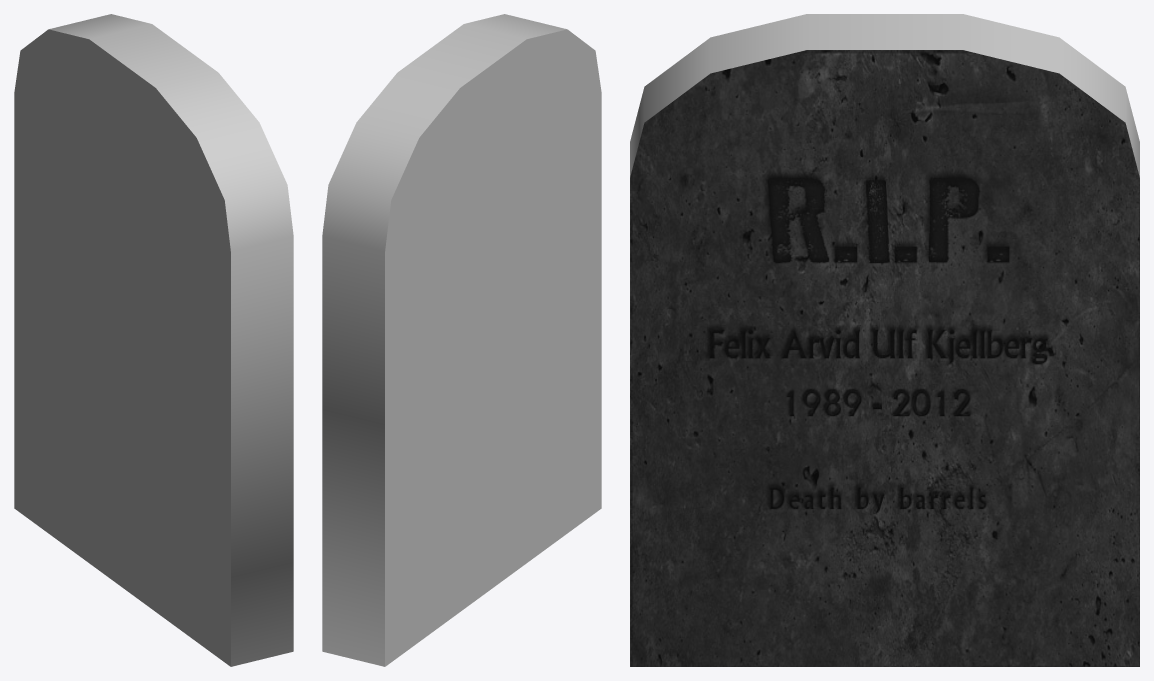
Rendered from Gravestone4_pewdie.fbx.
3 views of the same model, side by side, from view 1: azimuth 30°, elevation 25°; view 2: azimuth 150°, elevation 25°; view 3: azimuth 270°, elevation 25° (orthographic). The views are drawn at different scales.
Visible parts, largest first — view 1: pCube1; view 2: pCube1; view 3: pCube1.
Boxes of the visible parts, x1,y1,x2,y2 form: pCube1: (14,14,293,666); pCube1: (322,14,601,666); pCube1: (630,14,1139,666).
Size of the model in its own units: 1.49 by 11.84 by 8.87.
